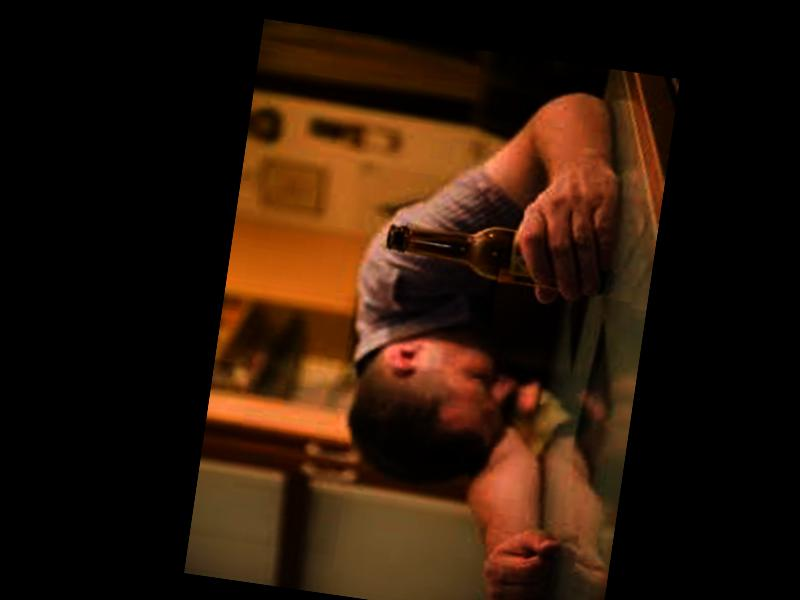Beer: (382, 214, 611, 294)
